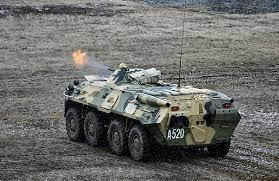tank: (64, 52, 244, 170)
